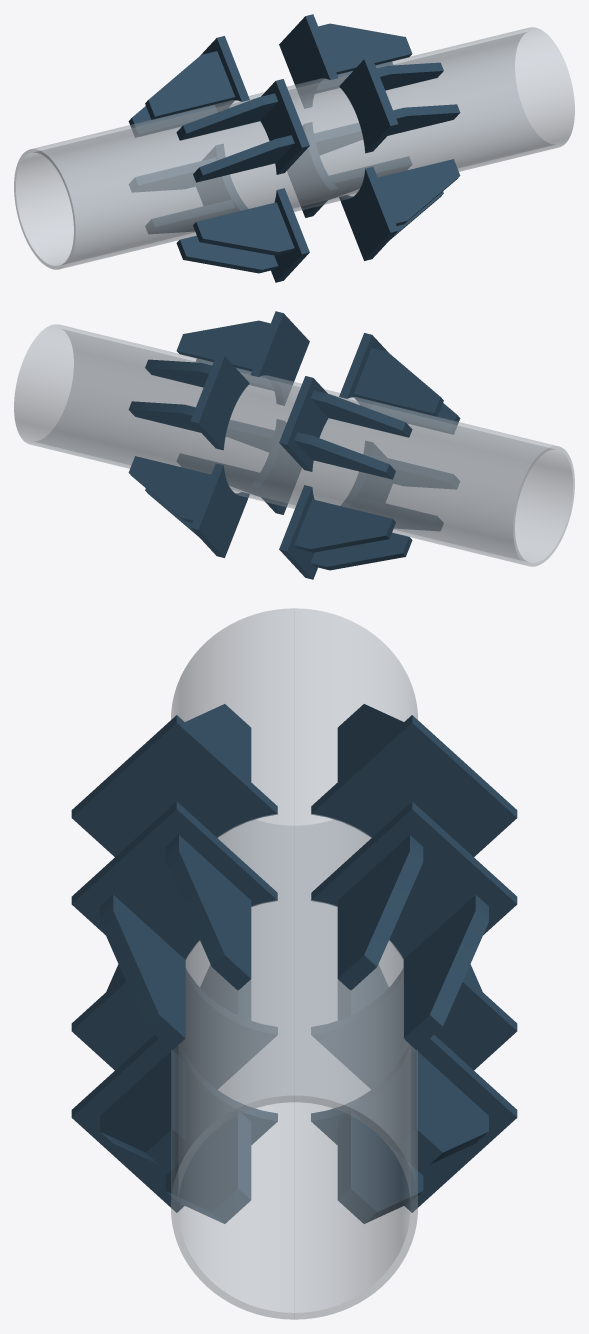
Rendered from TS-661.00.00-opora-dn133-ris2.glb.
The picture shows the model from 3 angles, top to bottom: view 1: azimuth 30°, elevation 25°; view 2: azimuth 150°, elevation 25°; view 3: azimuth 270°, elevation 25°; orthographic projection. The views are drawn at different scales.
Parts seen in each view (by area): view 1: truba, upor_11, upor_24, upor_7, upor_1, upor_19, upor_21, upor_8, upor_13, upor_4, upor_12, upor_6 (+12 smaller); view 2: truba, upor_18, upor_5, upor_13, upor_19, upor_1, upor_2, upor_15, upor_7, upor_22, upor_17, upor_23 (+12 smaller); view 3: truba, upor_4, upor_22, upor_1, upor_19, upor_10, upor_16, upor_7, upor_13, upor_2, upor_21, upor_3 (+9 smaller).
Boxes of the visible parts, x1=… form: truba: x1=14, y1=27, x2=574, y2=269; upor_11: x1=193, y1=202, x2=294, y2=255; upor_24: x1=145, y1=51, x2=235, y2=119; upor_7: x1=339, y1=166, x2=398, y2=260; upor_1: x1=339, y1=57, x2=398, y2=153; upor_19: x1=279, y1=14, x2=338, y2=108; upor_21: x1=318, y1=23, x2=412, y2=74; upor_8: x1=378, y1=159, x2=460, y2=225; upor_13: x1=287, y1=122, x2=337, y2=217; upor_4: x1=260, y1=79, x2=309, y2=174; upor_12: x1=176, y1=235, x2=278, y2=273; upor_6: x1=193, y1=135, x2=294, y2=182; truba: x1=14, y1=324, x2=574, y2=566; upor_18: x1=294, y1=499, x2=395, y2=552; upor_5: x1=353, y1=348, x2=443, y2=416; upor_13: x1=190, y1=463, x2=249, y2=557; upor_19: x1=190, y1=354, x2=249, y2=450; upor_1: x1=250, y1=311, x2=309, y2=405; upor_2: x1=176, y1=320, x2=270, y2=371; upor_15: x1=128, y1=456, x2=210, y2=522; upor_7: x1=251, y1=419, x2=301, y2=514; upor_22: x1=279, y1=376, x2=328, y2=471; upor_17: x1=310, y1=532, x2=412, y2=570; upor_23: x1=294, y1=432, x2=395, y2=479; truba: x1=171, y1=608, x2=417, y2=1319; upor_4: x1=71, y1=715, x2=277, y2=856; upor_22: x1=311, y1=715, x2=517, y2=856; upor_1: x1=71, y1=801, x2=277, y2=959; upor_19: x1=311, y1=801, x2=517, y2=959; upor_10: x1=71, y1=970, x2=277, y2=1088; upor_16: x1=311, y1=970, x2=517, y2=1088; upor_7: x1=71, y1=1035, x2=277, y2=1212; upor_13: x1=311, y1=1035, x2=517, y2=1212; upor_2: x1=165, y1=835, x2=251, y2=990; upor_21: x1=337, y1=835, x2=423, y2=990; upor_3: x1=100, y1=894, x2=185, y2=1050.
Bounding box in the file's own units: 620 × 240 × 240.
